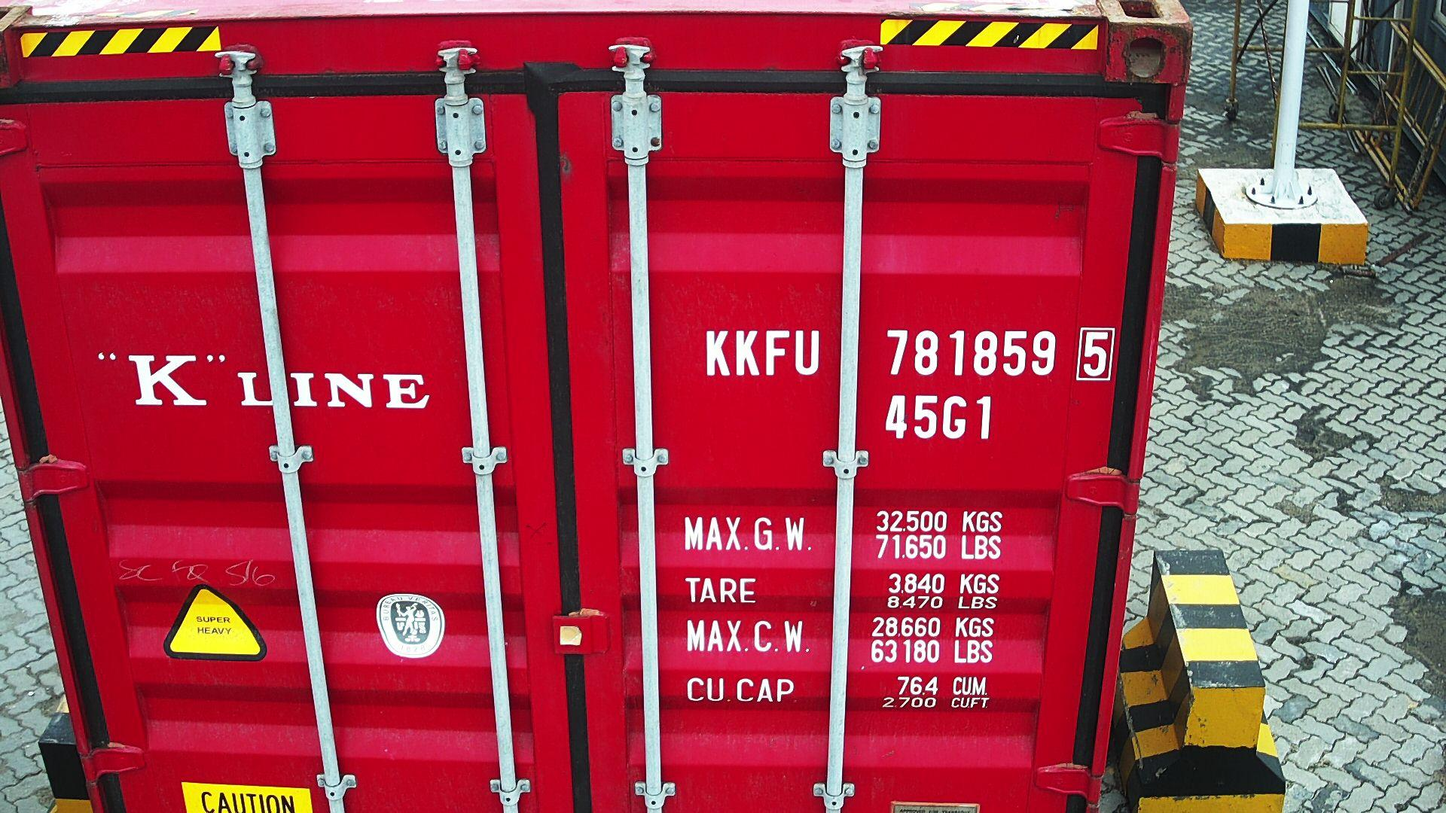container-numbers: (700, 324, 1121, 385), (883, 392, 996, 443)
